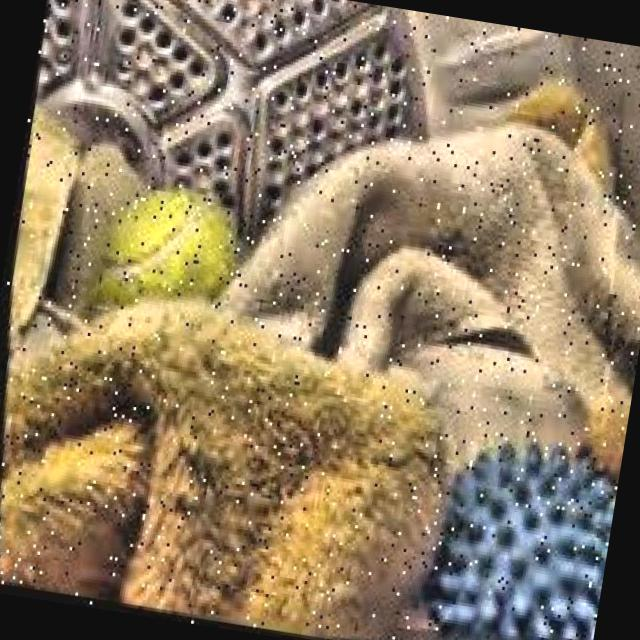Tennis Ball: (68, 172, 249, 356)
